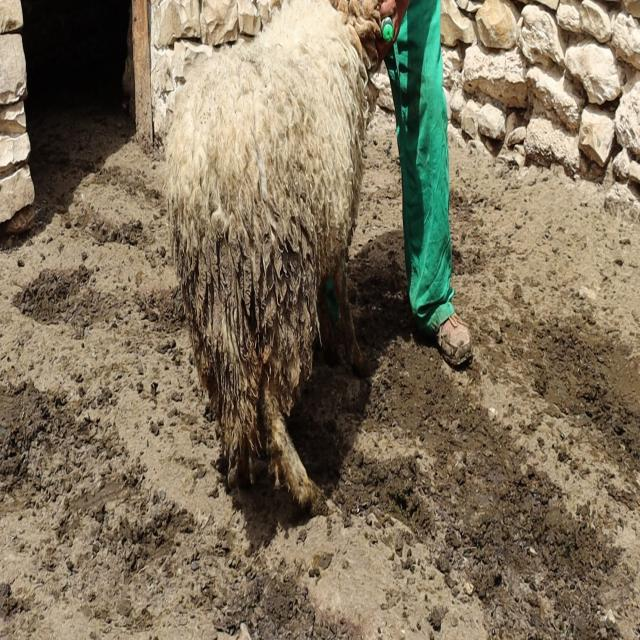Score_2: (164, 0, 381, 508)
